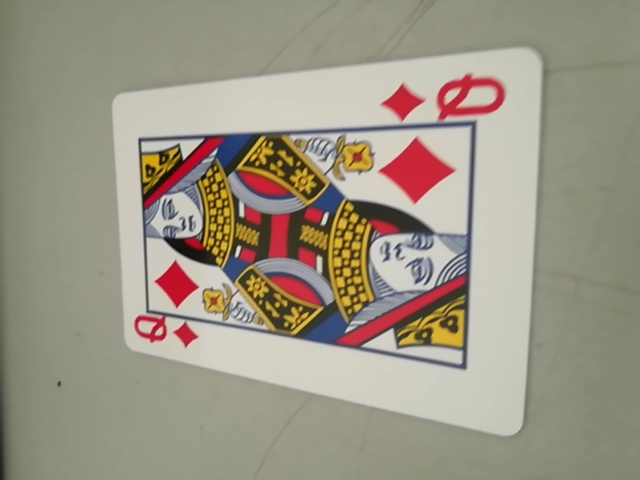fk q: (381, 68, 510, 124), (128, 309, 201, 356)
